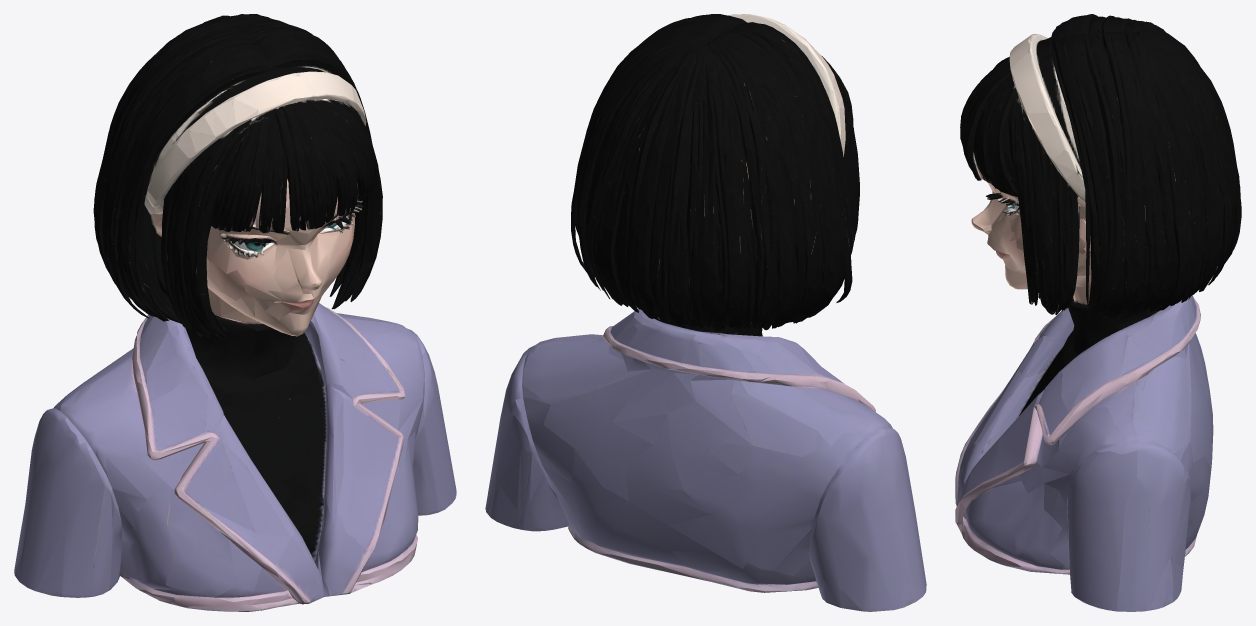
Rendered from kin-bust.glb.
The picture shows the model from 3 angles, left to right: view 1: azimuth 30°, elevation 25°; view 2: azimuth 150°, elevation 25°; view 3: azimuth 270°, elevation 25°; orthographic projection. The views are drawn at different scales.
Size of the model in its own units: 1.66 by 1.9 by 1.02.
Materials: 1 (1 with a texture image).
